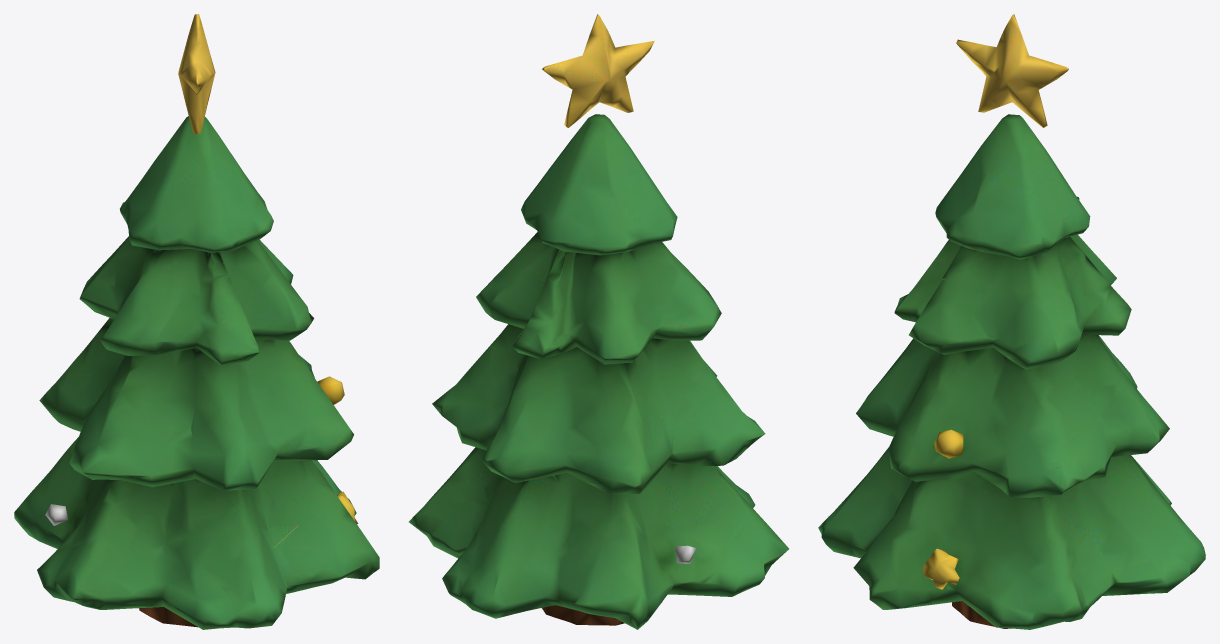
File: christmas-tree.glb
3 views of the same model, side by side, from view 1: azimuth 30°, elevation 25°; view 2: azimuth 150°, elevation 25°; view 3: azimuth 270°, elevation 25° (orthographic).
Parts seen in each view (by area): view 1: tripo_node_d3b5540a-d7ea-49f9-a943-f43a370f74c4; view 2: tripo_node_d3b5540a-d7ea-49f9-a943-f43a370f74c4; view 3: tripo_node_d3b5540a-d7ea-49f9-a943-f43a370f74c4.
Part boxes in pixels (x1,y1,x2,y2): tripo_node_d3b5540a-d7ea-49f9-a943-f43a370f74c4: (14, 14, 379, 629); tripo_node_d3b5540a-d7ea-49f9-a943-f43a370f74c4: (409, 14, 788, 629); tripo_node_d3b5540a-d7ea-49f9-a943-f43a370f74c4: (818, 14, 1205, 629).
Size of the model in its own units: 0.5695 by 1 by 0.597.
Materials: 1 (1 with a texture image).
